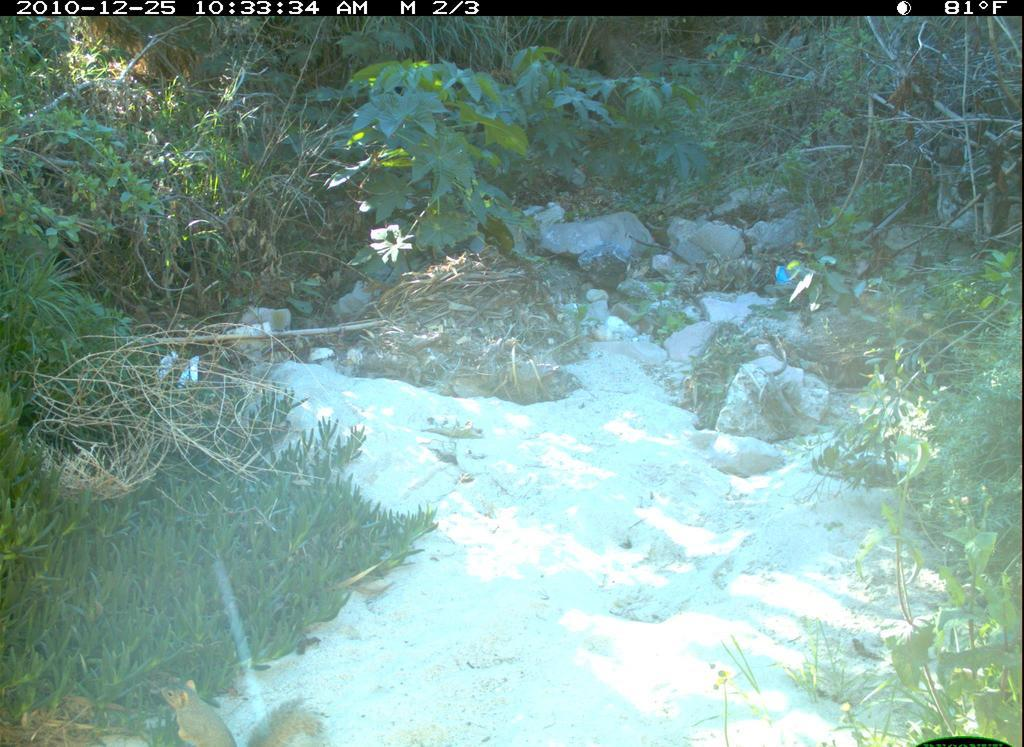squirrel: (164, 675, 329, 747)
